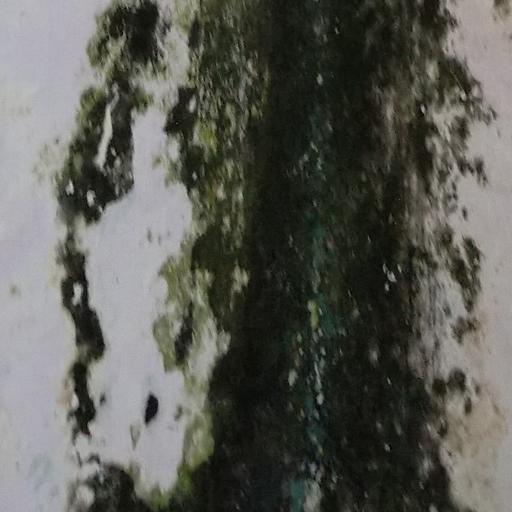algae: (57, 0, 512, 512)
